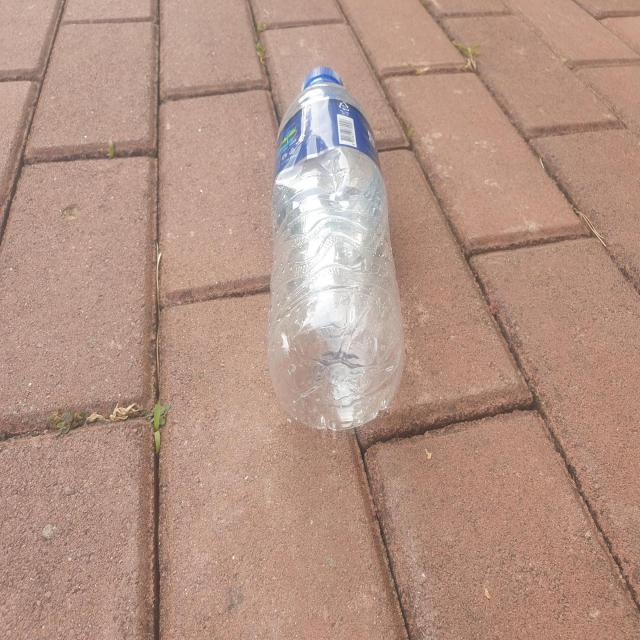plastic: (269, 66, 405, 430)
